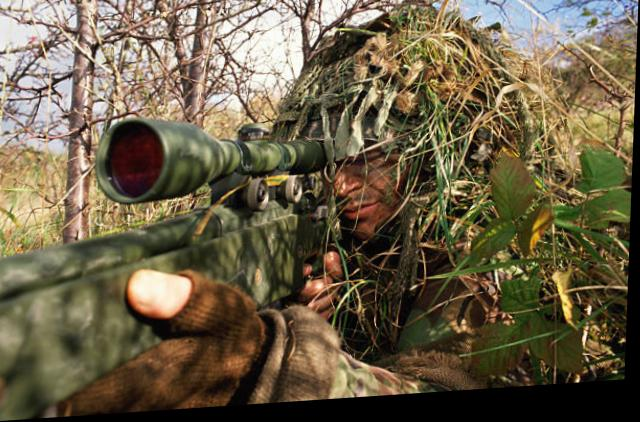other: (76, 3, 577, 410)
